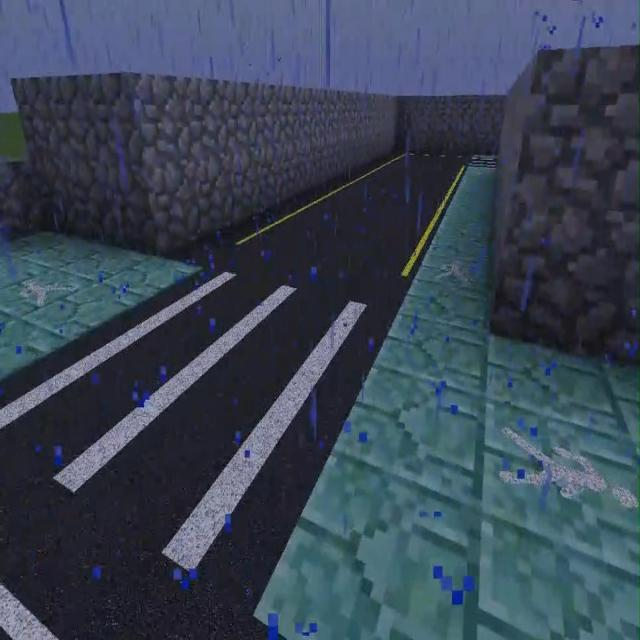8: (1, 268, 395, 606), (470, 152, 496, 163)
crosswalk: (1, 441, 277, 639), (177, 148, 469, 302)
road: (254, 166, 639, 639), (1, 228, 198, 376)
